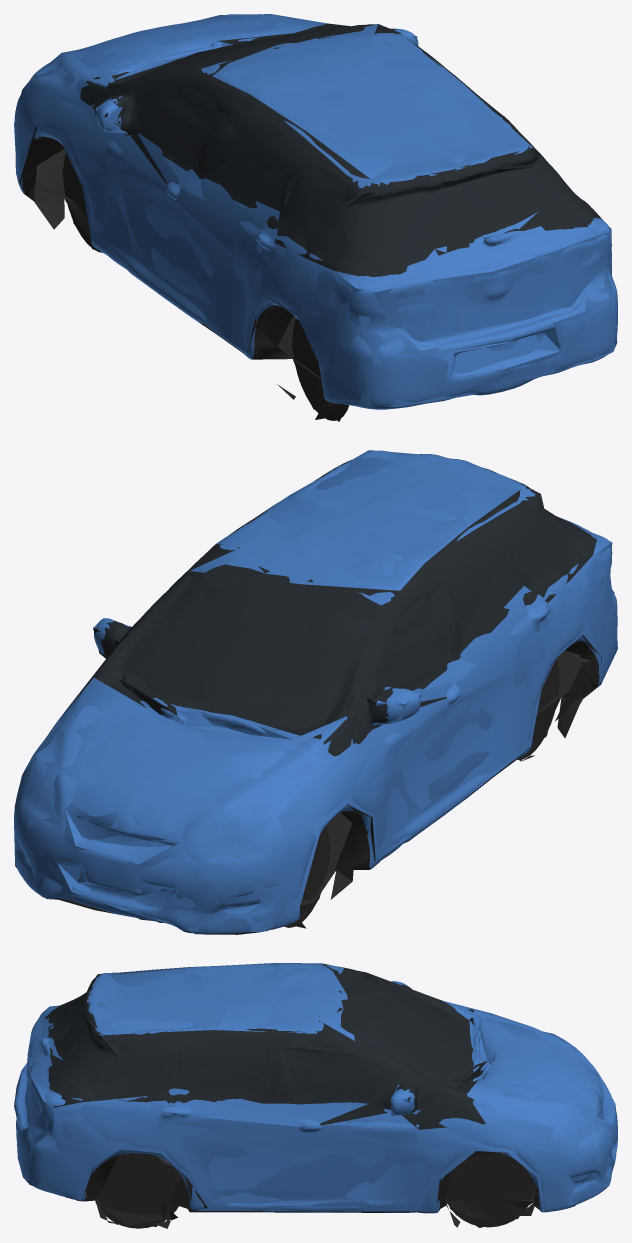
The model's file is toyota-matrix.glb.
The picture shows the model from 3 angles, top to bottom: view 1: azimuth 30°, elevation 25°; view 2: azimuth 150°, elevation 25°; view 3: azimuth 270°, elevation 25°; orthographic projection. The views are drawn at different scales.
Parts seen in each view (by area): view 1: body, far; view 2: body, far; view 3: body, far.
Boxes of the visible parts, x1,y1,x2,y2 form: body: [14, 14, 617, 420]; far: [14, 14, 617, 421]; body: [14, 450, 617, 934]; far: [14, 450, 617, 931]; body: [14, 964, 617, 1228]; far: [14, 963, 617, 1227].
Bounding box in the file's own units: 2.07 × 1.6 × 4.43.
